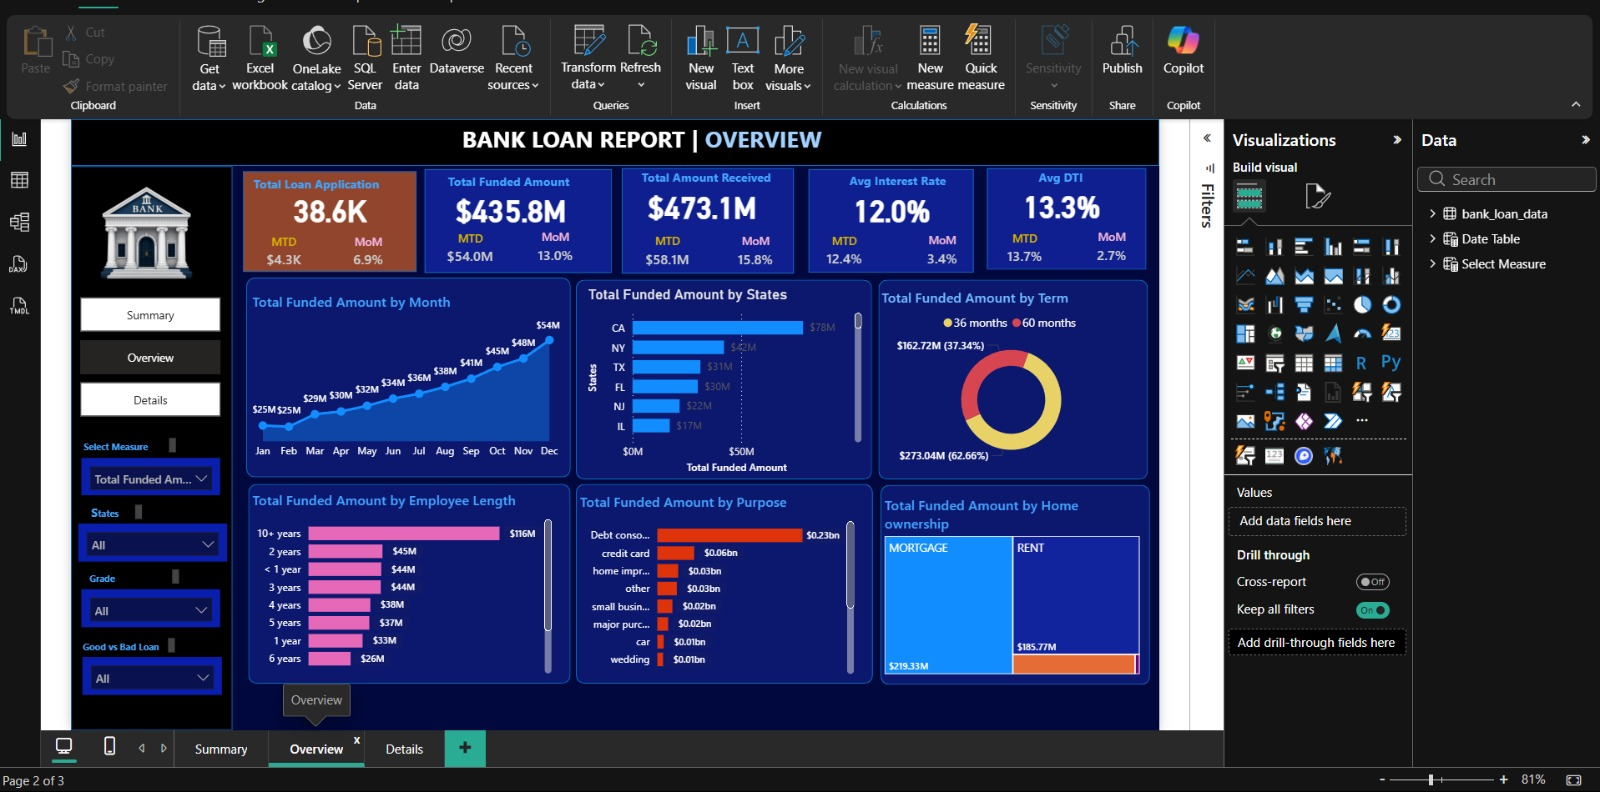

The page's visual inventory and layout, read from the dashboard file:
{"tool":"powerbi","page":{"name":"Overview","canvas":[1280,720],"ordinal":1},"visuals":[{"type":"shape","box":[0,0,1280,55],"z":0},{"type":"shape","box":[647.4,57.6,202.4,124],"z":0,"group":"g4"},{"type":"shape","box":[1077.3,57.6,187.5,119.6],"z":0,"group":"g3"},{"type":"shape","box":[867,59.1,194.2,121.7],"z":0,"group":"g5"},{"type":"shape","box":[415.8,59.3,220.3,122.1],"z":0,"group":"g2"},{"type":"shape","box":[202.7,61,204.1,118.5],"z":0,"group":"g1"},{"type":"shape","box":[0,55.4,190,664.3],"z":1000},{"type":"card","fields":{"Values":["bank_loan_data.Avg DTI"]},"box":[1064.7,69.8,200.4,61.4],"z":1000,"group":"g3"},{"type":"card","fields":{"Values":["bank_loan_data.Total Amount Received"]},"box":[633.8,70.4,216.4,63.6],"z":1000,"group":"g4"},{"type":"card","fields":{"Values":["bank_loan_data.Total Funded Amount"]},"box":[400.4,75.1,235.3,60.9],"z":1000,"group":"g2"},{"type":"card","fields":{"Values":["bank_loan_data.Total Loan Applications"]},"box":[187.6,76.2,234.3,58.7],"z":1000,"group":"g1"},{"type":"card","fields":{"Values":["bank_loan_data.Avg Interest Rate"]},"box":[868.5,77,193.3,56.6],"z":1000,"group":"g5"},{"type":"textbox","box":[665.9,53.9,182.8,32.3],"z":2000,"group":"g4"},{"type":"textbox","box":[1094.3,53.9,172.4,31.4],"z":2000,"group":"g3"},{"type":"textbox","box":[906.3,57.5,138.8,29.7],"z":2000,"group":"g5"},{"type":"textbox","box":[430.7,59.3,202.8,31.1],"z":2000,"group":"g2"},{"type":"textbox","box":[209.4,61,180.9,30],"z":2000,"group":"g1"},{"type":"shape","box":[205.6,186.7,381.5,235.2],"z":2000},{"type":"textbox","box":[9.8,370.7,118.5,26.9],"z":2000,"group":"g9"},{"type":"textbox","box":[14.4,449.6,73.6,26.9],"z":2000,"group":"g6"},{"type":"textbox","box":[13.5,525,118.5,26.9],"z":2000,"group":"g7"},{"type":"textbox","box":[8.9,605.9,118.5,26.9],"z":2000,"group":"g8"},{"type":"textbox","box":[455.2,0,453.3,55.4],"z":3000},{"type":"card","title":"MTD","fields":{"Values":["bank_loan_data.MTD Avg DTI"]},"box":[1092.6,130.7,57.3,46.8],"z":3000,"group":"g3"},{"type":"card","title":"MTD","fields":{"Values":["bank_loan_data.MTD Funded Amount"]},"box":[426.9,131.3,85.5,46.3],"z":3000,"group":"g2"},{"type":"card","title":"MTD","fields":{"Values":["bank_loan_data.MTD Total Amount Recieved"]},"box":[661.1,133.1,80.5,49.4],"z":3000,"group":"g4"},{"type":"card","title":"MTD","fields":{"Values":["bank_loan_data.MTD Avg Int Rate"]},"box":[883,134,52.5,47.4],"z":3000,"group":"g5"},{"type":"card","title":"MTD","fields":{"Values":["bank_loan_data.MTD Loan Application"]},"box":[220.4,135,59.2,44.6],"z":3000,"group":"g1"},{"type":"group","id":"g1","title":"Group 1","box":[187.6,61,234.3,118.5],"z":4000},{"type":"card","title":"MoM","fields":{"Values":["bank_loan_data.MoM Total Funded Amount"]},"box":[530.8,128.9,79.5,41.8],"z":4000,"group":"g2"},{"type":"card","title":"MoM","fields":{"Values":["bank_loan_data.MoM Avg DTI"]},"box":[1186.3,129.1,75.4,48.5],"z":4000,"group":"g3"},{"type":"card","title":"MoM","fields":{"Values":["bank_loan_data.MoMAvg Int Rate"]},"box":[992.9,132.7,61.9,48.5],"z":4000,"group":"g5"},{"type":"card","title":"MoM","fields":{"Values":["bank_loan_data.MoM Total Amount Recieved"]},"box":[766,133.1,76.8,49.4],"z":4000,"group":"g4"},{"type":"card","title":"MoM","fields":{"Values":["bank_loan_data.MoM Loan Application"]},"box":[319.9,135,59.2,44.6],"z":4000,"group":"g1"},{"type":"group","id":"g2","title":"Group 1","box":[400.4,59.3,233.4,122.1],"z":5000},{"type":"group","id":"g3","title":"Group 1","box":[1064.7,53.9,202,123.9],"z":6000},{"type":"group","id":"g4","title":"Group 1","box":[633.8,53.9,216.4,128.4],"z":7000},{"type":"group","id":"g5","title":"Group 1","box":[867,57.5,194.8,123.9],"z":8000},{"type":"slicer","fields":{"Values":["bank_loan_data.address_state"]},"box":[9,475.7,175.1,44.9],"z":9000},{"type":"group","id":"g6","title":"Group 1","box":[14.4,449.6,73.6,26.9],"z":10000},{"type":"slicer","fields":{"Values":["bank_loan_data.grade"]},"box":[12.6,552.9,163.4,44.9],"z":11000},{"type":"group","id":"g7","title":"Group 1","box":[13.5,525,118.5,26.9],"z":12000},{"type":"slicer","fields":{"Values":["bank_loan_data.Good Vs Bad Loan"]},"box":[13.5,632.8,164.3,44.9],"z":13000},{"type":"group","id":"g8","title":"Group 1","box":[8.9,605.9,118.5,26.9],"z":14000},{"type":"areaChart","fields":{"Y":["bank_loan_data.Total Funded Amount"],"Category":["Date Table.Month"]},"box":[209.2,203.8,371.7,204.7],"z":15000},{"type":"slicer","fields":{"Values":["Select Measure.Select Measure"]},"box":[12.6,398.6,163.4,44],"z":16000},{"type":"group","id":"g9","title":"Group 1","box":[9.8,370.7,118.5,26.9],"z":17000},{"type":"shape","box":[594.3,188.5,348.3,235.2],"z":18000},{"type":"clusteredBarChart","fields":{"Y":["bank_loan_data.Total Funded Amount"],"Category":["bank_loan_data.address_state"]},"box":[604.2,195.7,331.3,226.2],"z":19000},{"type":"shape","box":[949.8,188.5,316.9,235.2],"z":20000},{"type":"donutChart","fields":{"Y":["bank_loan_data.Total Funded Amount"],"Category":["bank_loan_data.term"]},"box":[948.9,199.3,315.1,212.8],"z":21000},{"type":"shape","box":[208.3,430,378.9,235.2],"z":22000},{"type":"barChart","fields":{"Y":["bank_loan_data.Total Funded Amount"],"Category":["bank_loan_data.emp_length"]},"box":[209.2,437.2,361.8,220.8],"z":23000},{"type":"shape","box":[593.4,430,349.2,235.2],"z":24000},{"type":"barChart","fields":{"Y":["bank_loan_data.Total Funded Amount"],"Category":["bank_loan_data.purpose"]},"box":[594.3,439,332.2,219.1],"z":25000},{"type":"shape","box":[951.6,430.9,316.9,235.2],"z":26000},{"type":"treemap","fields":{"Values":["bank_loan_data.Total Funded Amount"],"Group":["bank_loan_data.home_ownership"]},"box":[951.6,442.6,309.7,215.5],"z":27000},{"type":"pageNavigator","box":[10.8,210.1,165.2,140.9],"z":28000},{"type":"image","box":[9.9,73.5,158.9,116.7],"z":29000}]}

Visuals, with their boxes on the page's 1280x720 design canvas (x1, y1, x2, y2). These are canvas units, not pixel positions in the 1600x792 screenshot, which may show the page scaled, cropped or inside an application window:
shape: {"x1": 0, "y1": 0, "x2": 1280, "y2": 55}
shape: {"x1": 647, "y1": 58, "x2": 850, "y2": 182}
shape: {"x1": 1077, "y1": 58, "x2": 1265, "y2": 177}
shape: {"x1": 867, "y1": 59, "x2": 1061, "y2": 181}
shape: {"x1": 416, "y1": 59, "x2": 636, "y2": 181}
shape: {"x1": 203, "y1": 61, "x2": 407, "y2": 180}
shape: {"x1": 0, "y1": 55, "x2": 190, "y2": 720}
card - bank_loan_data.Avg DTI: {"x1": 1065, "y1": 70, "x2": 1265, "y2": 131}
card - bank_loan_data.Total Amount Received: {"x1": 634, "y1": 70, "x2": 850, "y2": 134}
card - bank_loan_data.Total Funded Amount: {"x1": 400, "y1": 75, "x2": 636, "y2": 136}
card - bank_loan_data.Total Loan Applications: {"x1": 188, "y1": 76, "x2": 422, "y2": 135}
card - bank_loan_data.Avg Interest Rate: {"x1": 868, "y1": 77, "x2": 1062, "y2": 134}
textbox: {"x1": 666, "y1": 54, "x2": 849, "y2": 86}
textbox: {"x1": 1094, "y1": 54, "x2": 1267, "y2": 85}
textbox: {"x1": 906, "y1": 58, "x2": 1045, "y2": 87}
textbox: {"x1": 431, "y1": 59, "x2": 634, "y2": 90}
textbox: {"x1": 209, "y1": 61, "x2": 390, "y2": 91}
shape: {"x1": 206, "y1": 187, "x2": 587, "y2": 422}
textbox: {"x1": 10, "y1": 371, "x2": 128, "y2": 398}
textbox: {"x1": 14, "y1": 450, "x2": 88, "y2": 476}
textbox: {"x1": 14, "y1": 525, "x2": 132, "y2": 552}
textbox: {"x1": 9, "y1": 606, "x2": 127, "y2": 633}
textbox: {"x1": 455, "y1": 0, "x2": 908, "y2": 55}
"MTD" card: {"x1": 1093, "y1": 131, "x2": 1150, "y2": 178}
"MTD" card: {"x1": 427, "y1": 131, "x2": 512, "y2": 178}
"MTD" card: {"x1": 661, "y1": 133, "x2": 742, "y2": 182}
"MTD" card: {"x1": 883, "y1": 134, "x2": 936, "y2": 181}
"MTD" card: {"x1": 220, "y1": 135, "x2": 280, "y2": 180}
"Group 1" group: {"x1": 188, "y1": 61, "x2": 422, "y2": 180}
"MoM" card: {"x1": 531, "y1": 129, "x2": 610, "y2": 171}
"MoM" card: {"x1": 1186, "y1": 129, "x2": 1262, "y2": 178}
"MoM" card: {"x1": 993, "y1": 133, "x2": 1055, "y2": 181}
"MoM" card: {"x1": 766, "y1": 133, "x2": 843, "y2": 182}
"MoM" card: {"x1": 320, "y1": 135, "x2": 379, "y2": 180}
"Group 1" group: {"x1": 400, "y1": 59, "x2": 634, "y2": 181}
"Group 1" group: {"x1": 1065, "y1": 54, "x2": 1267, "y2": 178}
"Group 1" group: {"x1": 634, "y1": 54, "x2": 850, "y2": 182}
"Group 1" group: {"x1": 867, "y1": 58, "x2": 1062, "y2": 181}
slicer - bank_loan_data.address_state: {"x1": 9, "y1": 476, "x2": 184, "y2": 521}
"Group 1" group: {"x1": 14, "y1": 450, "x2": 88, "y2": 476}
slicer - bank_loan_data.grade: {"x1": 13, "y1": 553, "x2": 176, "y2": 598}
"Group 1" group: {"x1": 14, "y1": 525, "x2": 132, "y2": 552}
slicer - bank_loan_data.Good Vs Bad Loan: {"x1": 14, "y1": 633, "x2": 178, "y2": 678}
"Group 1" group: {"x1": 9, "y1": 606, "x2": 127, "y2": 633}
areaChart - bank_loan_data.Total Funded Amount x Date Table.Month: {"x1": 209, "y1": 204, "x2": 581, "y2": 408}
slicer - Select Measure.Select Measure: {"x1": 13, "y1": 399, "x2": 176, "y2": 443}
"Group 1" group: {"x1": 10, "y1": 371, "x2": 128, "y2": 398}
shape: {"x1": 594, "y1": 188, "x2": 943, "y2": 424}
clusteredBarChart - bank_loan_data.Total Funded Amount x bank_loan_data.address_state: {"x1": 604, "y1": 196, "x2": 936, "y2": 422}
shape: {"x1": 950, "y1": 188, "x2": 1267, "y2": 424}
donutChart - bank_loan_data.Total Funded Amount x bank_loan_data.term: {"x1": 949, "y1": 199, "x2": 1264, "y2": 412}
shape: {"x1": 208, "y1": 430, "x2": 587, "y2": 665}
barChart - bank_loan_data.Total Funded Amount x bank_loan_data.emp_length: {"x1": 209, "y1": 437, "x2": 571, "y2": 658}
shape: {"x1": 593, "y1": 430, "x2": 943, "y2": 665}
barChart - bank_loan_data.Total Funded Amount x bank_loan_data.purpose: {"x1": 594, "y1": 439, "x2": 926, "y2": 658}
shape: {"x1": 952, "y1": 431, "x2": 1268, "y2": 666}
treemap - bank_loan_data.Total Funded Amount x bank_loan_data.home_ownership: {"x1": 952, "y1": 443, "x2": 1261, "y2": 658}
pageNavigator: {"x1": 11, "y1": 210, "x2": 176, "y2": 351}
image: {"x1": 10, "y1": 74, "x2": 169, "y2": 190}
